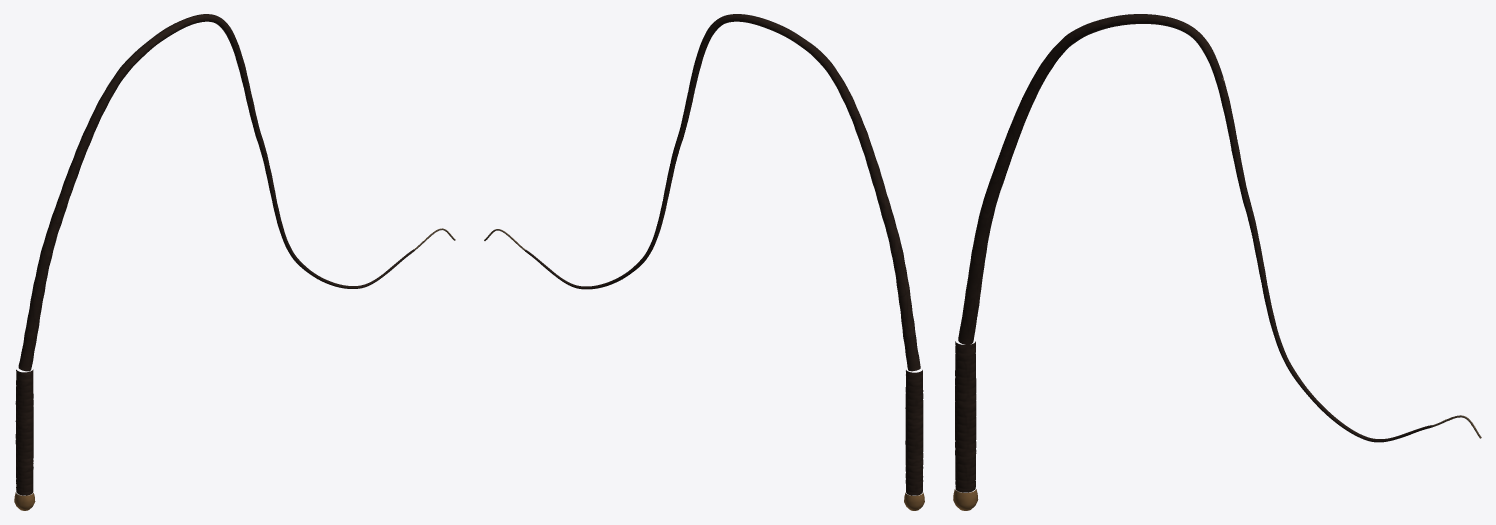
File: whip.glb
3 renders of one model, left to right at view 1: azimuth 30°, elevation 25°; view 2: azimuth 150°, elevation 25°; view 3: azimuth 330°, elevation 25°, orthographic. The views are drawn at different scales.
Visible parts, largest first — view 1: leather / oiled leather wrap; view 2: leather / oiled leather wrap; view 3: leather / oiled leather wrap.
Part boxes in pixels (bbox=[...]): leather / oiled leather wrap: bbox=[15, 14, 414, 495]; leather / oiled leather wrap: bbox=[525, 14, 923, 495]; leather / oiled leather wrap: bbox=[955, 14, 1432, 492].
Bounding box in the file's own units: 0.9711 × 0.9547 × 0.0497.
Materials: 5 (3 with a texture image).
